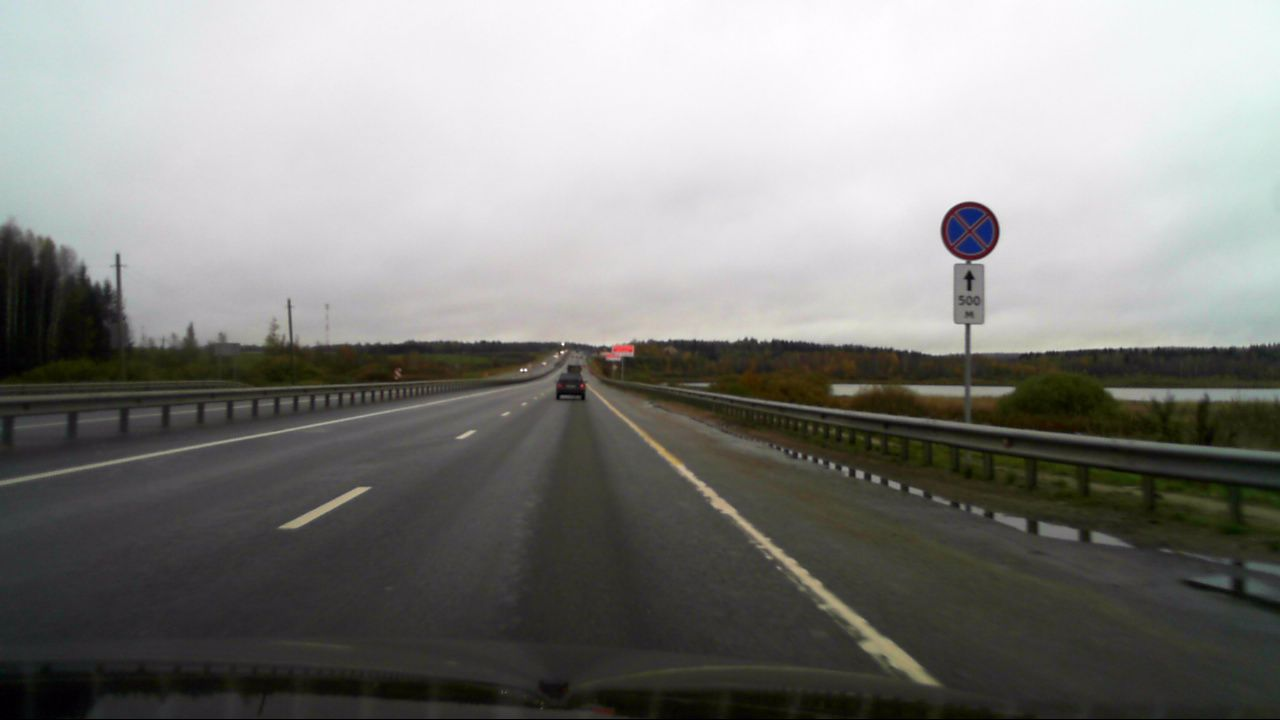No Parking: (941, 202, 1001, 259)
